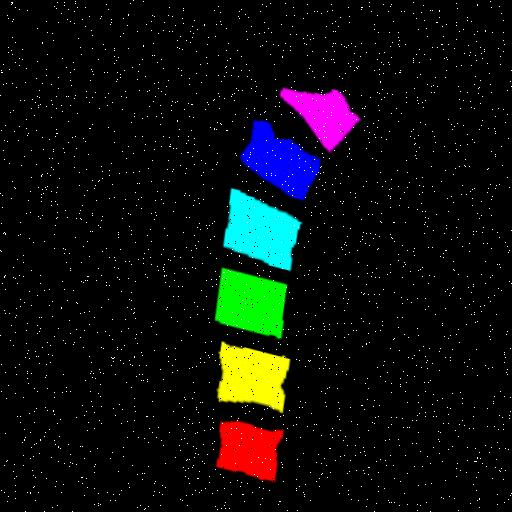L1: (211, 418, 276, 477)
L2: (213, 337, 283, 407)
L3: (211, 264, 283, 334)
L4: (221, 186, 296, 266)
L5: (238, 116, 318, 195)
S1: (279, 84, 358, 145)
